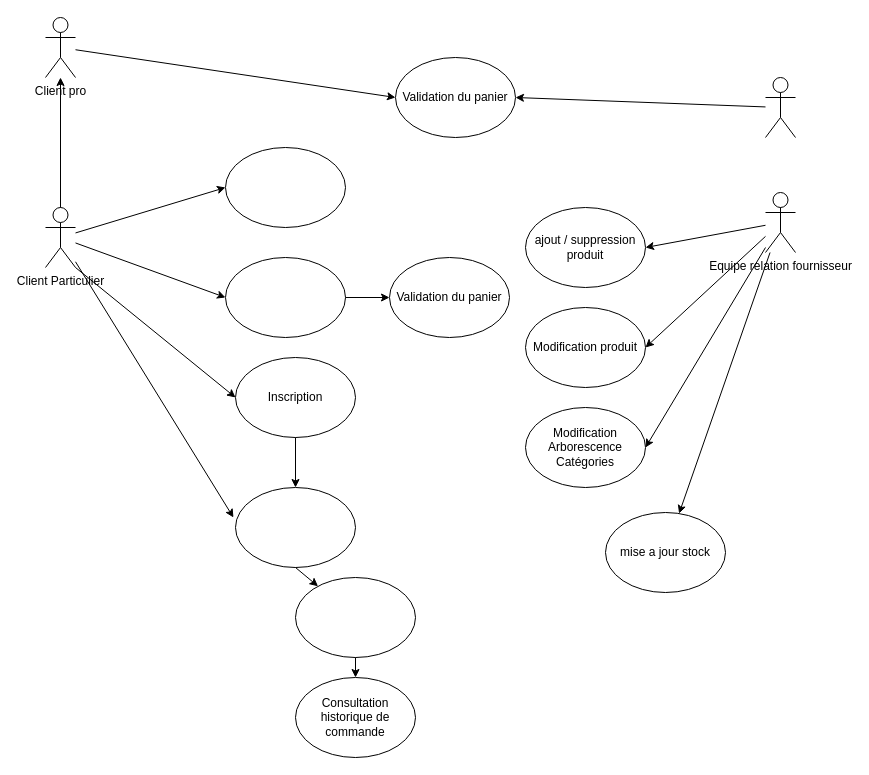
This 869x775 diagram has some shape labels left out. The shapes that lost their labels are listed below. From the top down, each one's box as (x1, y1, x2, y2) in pixels, then its label:
(764, 76, 796, 138): Equipe commerciale
(224, 146, 346, 228): Consultation Catalogue
(224, 256, 346, 338): Ajout/supression produit panier
(234, 486, 356, 568): Connexion / Deconnexion
(294, 576, 416, 658): Consultation du profil
